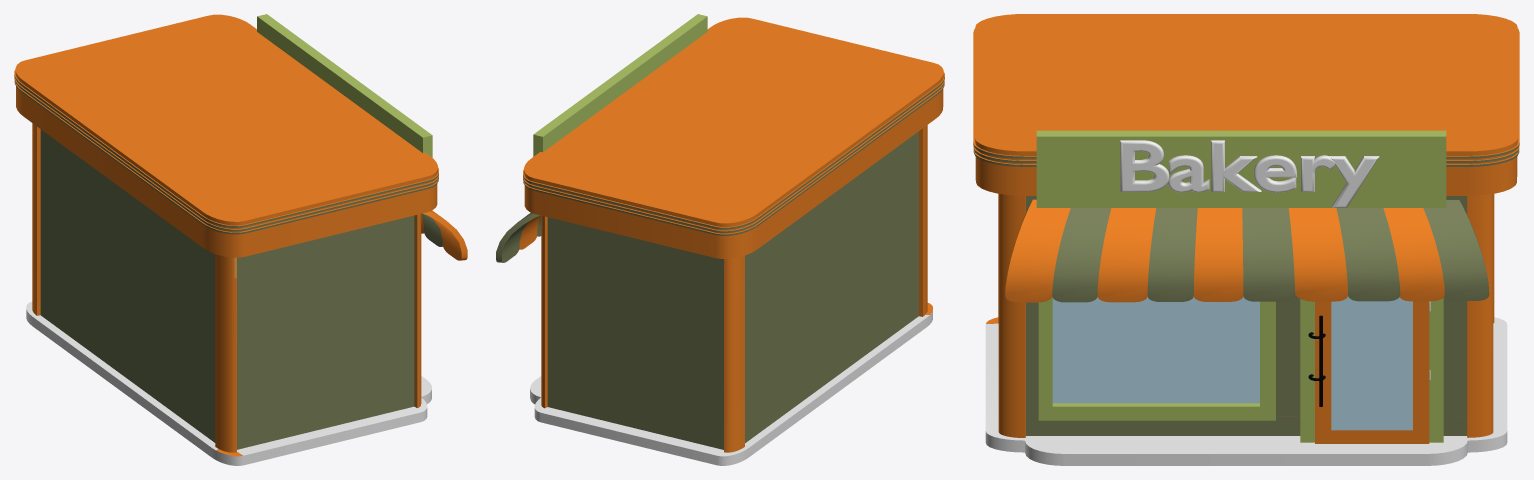
The model's file is Bakery.fbx.
3 renders of one model, left to right at view 1: azimuth 30°, elevation 25°; view 2: azimuth 150°, elevation 25°; view 3: azimuth 270°, elevation 25°, orthographic. The views are drawn at different scales.
Parts seen in each view (by area): view 1: Cube, Cube.001; view 2: Cube, Cube.001; view 3: Cube, Cube.001.
Boxes of the visible parts, left/top/right/bottom form: Cube: left=14, top=14, right=438, bottom=465; Cube.001: left=421, top=210, right=467, bottom=260; Cube: left=523, top=14, right=944, bottom=465; Cube.001: left=496, top=212, right=541, bottom=262; Cube: left=973, top=14, right=1519, bottom=465; Cube.001: left=1005, top=199, right=1489, bottom=302.
Size of the model in its own units: 1448 by 1413 by 2146.
